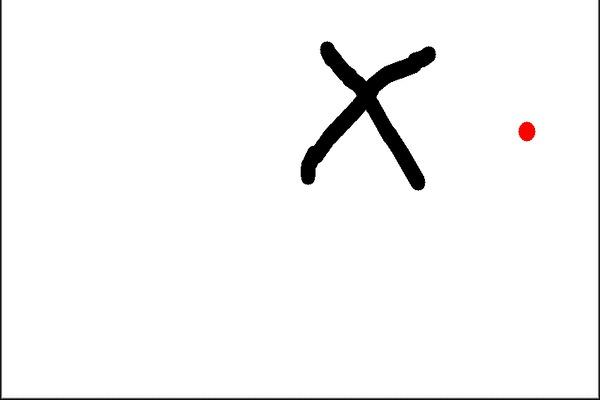X: (276, 27, 452, 207)
